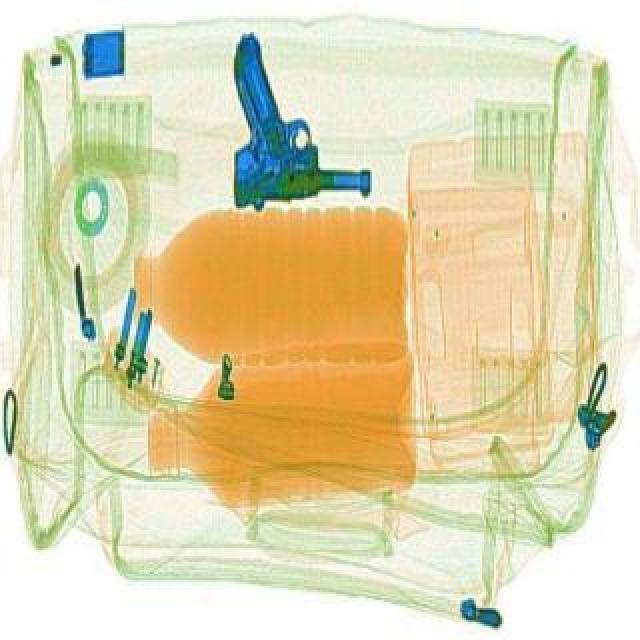gun: (218, 24, 374, 210)
